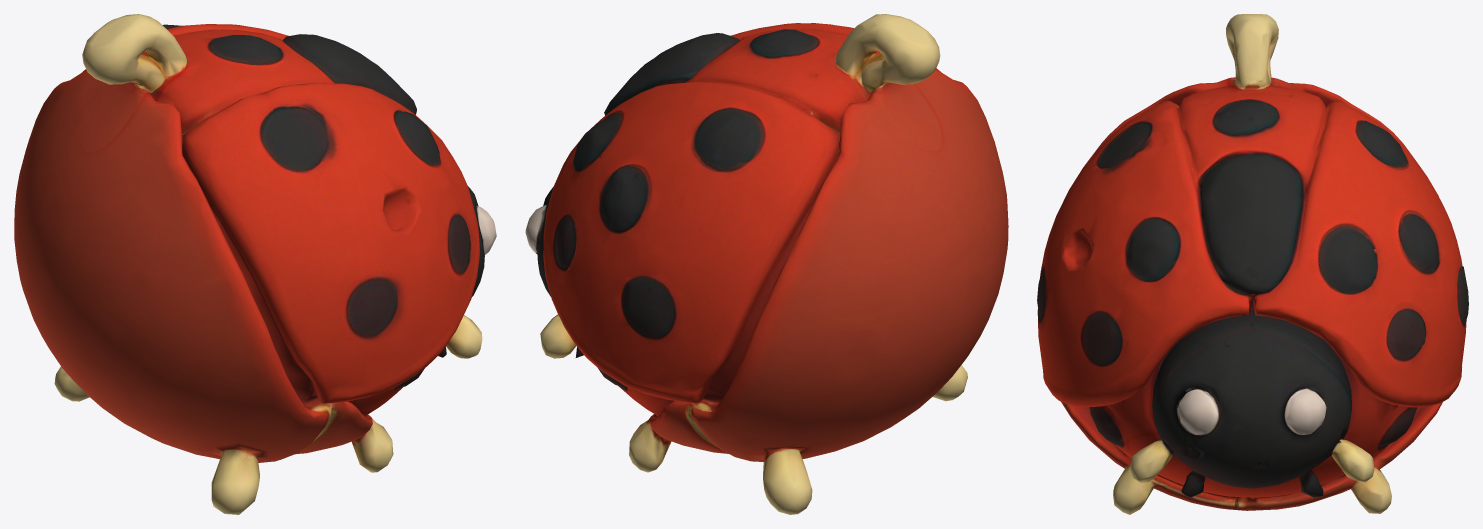
Rendered from ladybug.glb.
3 renders of one model, left to right at view 1: azimuth 30°, elevation 25°; view 2: azimuth 150°, elevation 25°; view 3: azimuth 270°, elevation 25°, orthographic. The views are drawn at different scales.
Parts seen in each view (by area): view 1: tripo_node_0c976888-c221-459f-9a23-1f6db6886309; view 2: tripo_node_0c976888-c221-459f-9a23-1f6db6886309; view 3: tripo_node_0c976888-c221-459f-9a23-1f6db6886309.
Boxes of the visible parts, left/top/right/bottom form: tripo_node_0c976888-c221-459f-9a23-1f6db6886309: left=14, top=14, right=496, bottom=514; tripo_node_0c976888-c221-459f-9a23-1f6db6886309: left=525, top=14, right=1008, bottom=514; tripo_node_0c976888-c221-459f-9a23-1f6db6886309: left=1037, top=14, right=1468, bottom=514.
Size of the model in its own units: 0.9685 by 0.9814 by 0.9188.
Materials: 1 (1 with a texture image).
